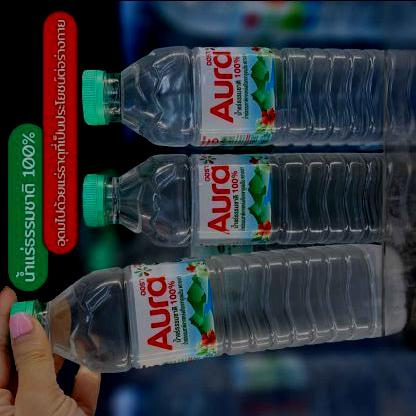bottle: (13, 234, 406, 379), (76, 40, 416, 150), (82, 148, 416, 247)
